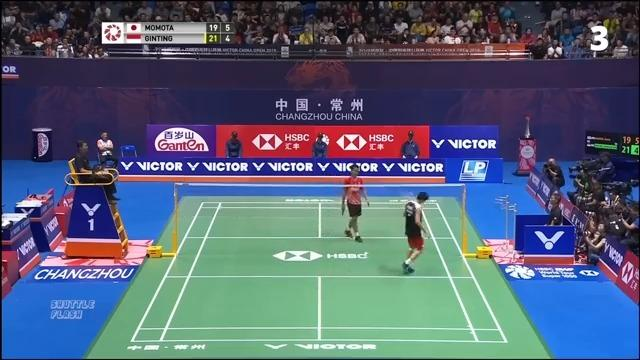Shuttlecock: (362, 246, 371, 255)
